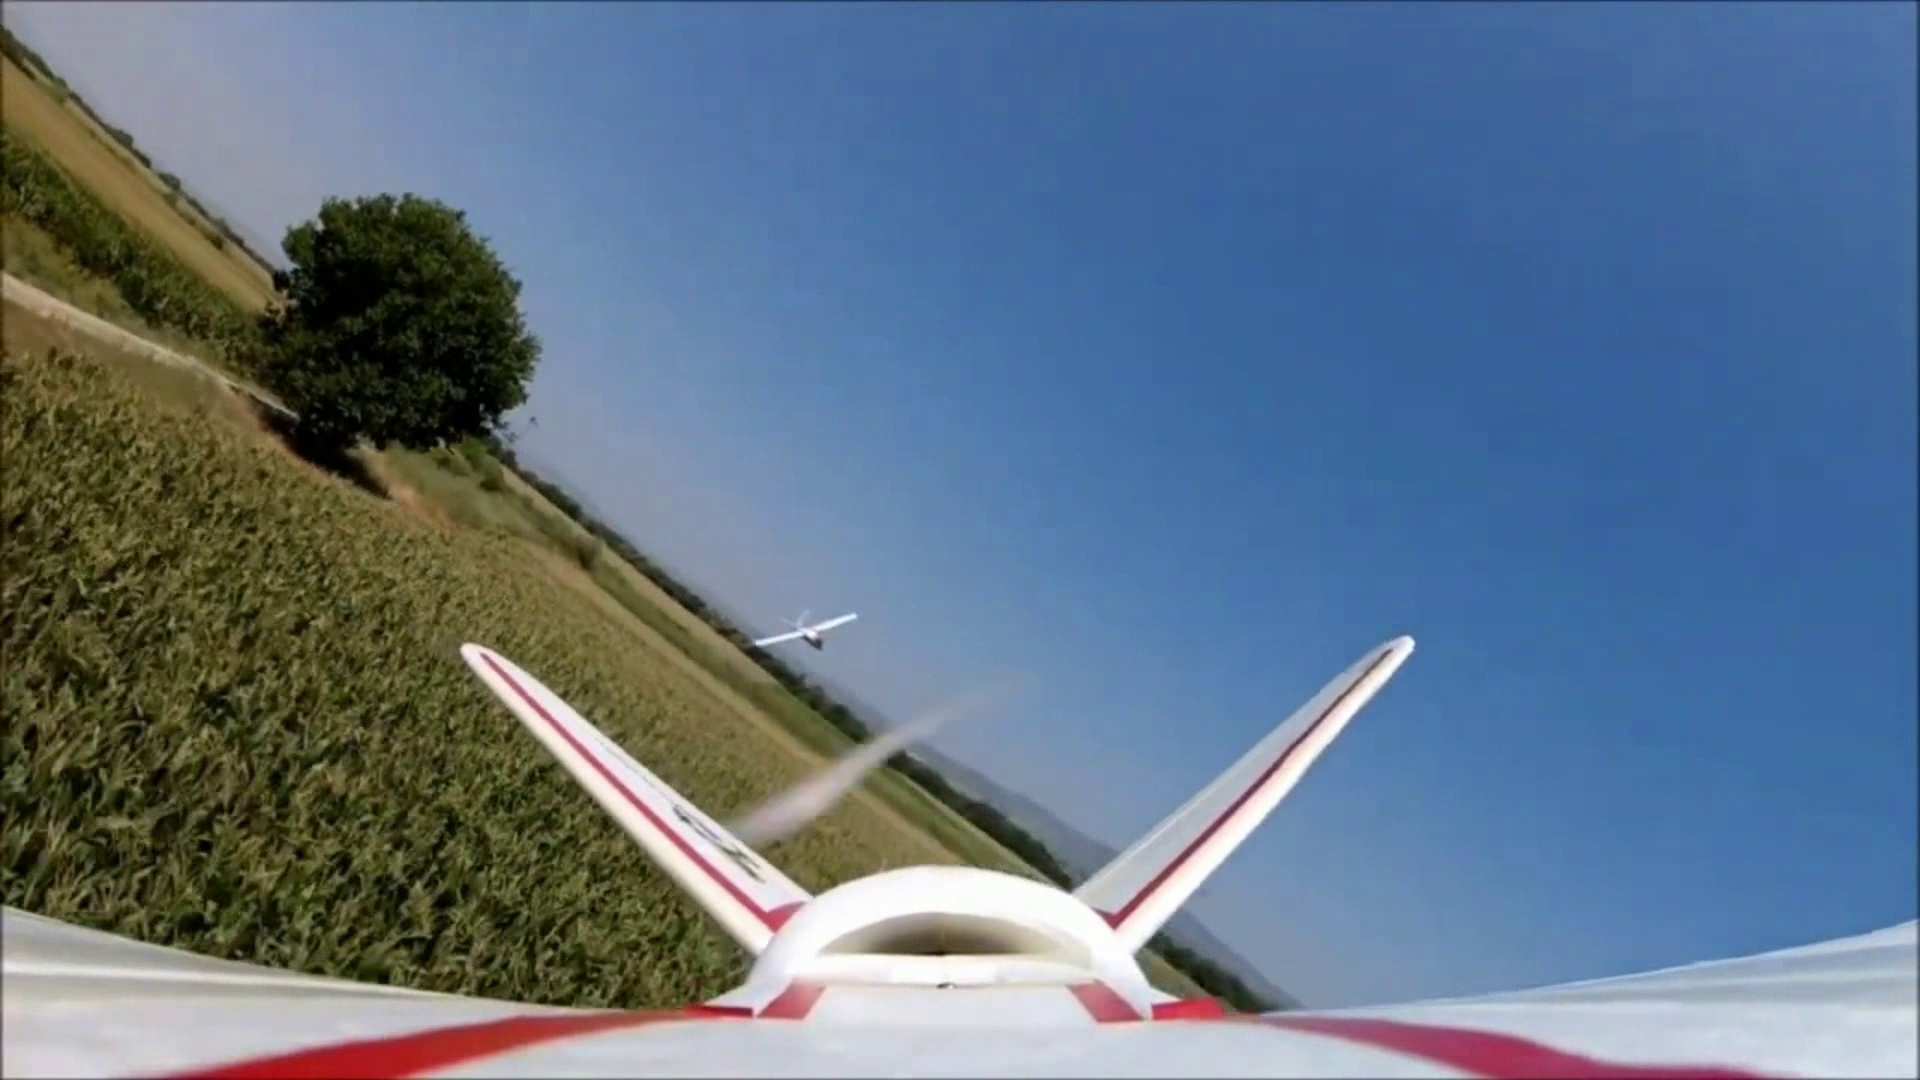airplane: (7, 615, 1900, 1072)
